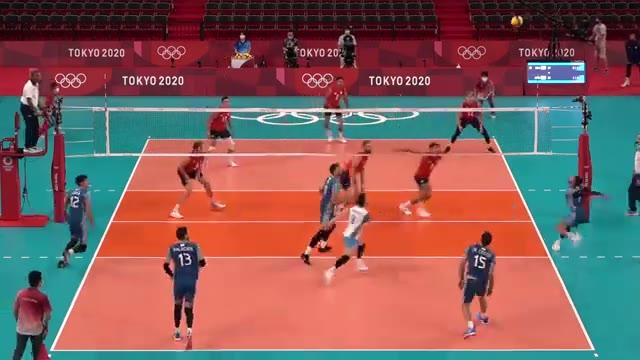ball: (508, 13, 525, 31)
